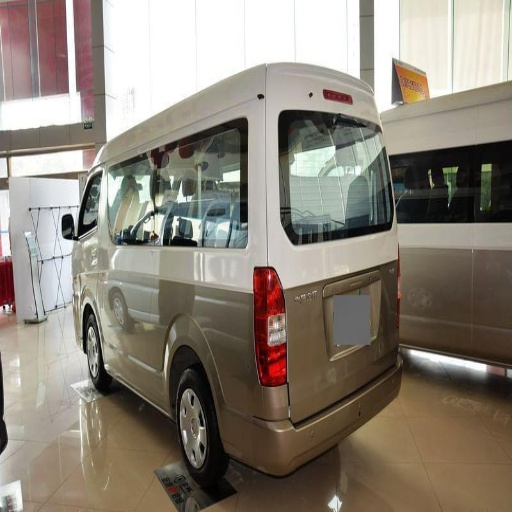back_bumper: (227, 357, 397, 473)
trunk: (273, 239, 393, 417), (145, 274, 254, 413)
